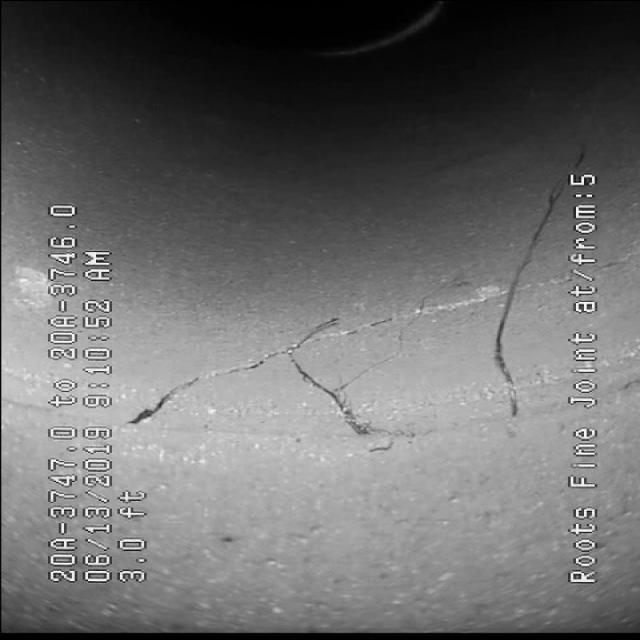Crack: (137, 321, 371, 422), (449, 206, 557, 378)
